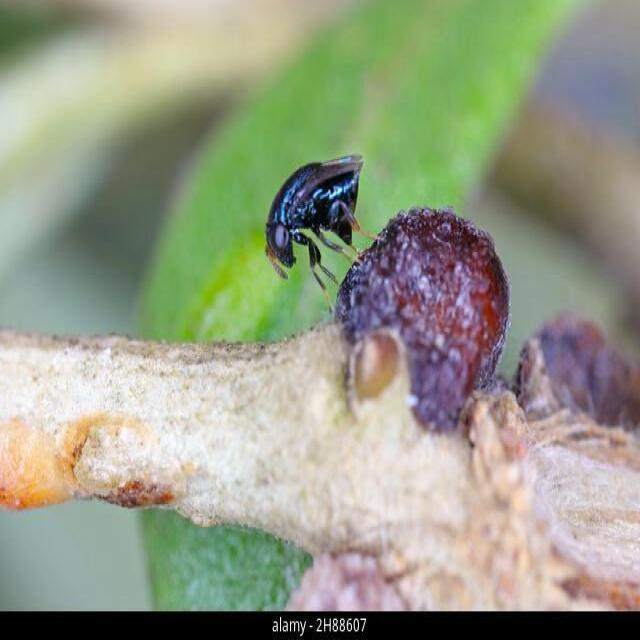BlackScale: (336, 208, 509, 430)
